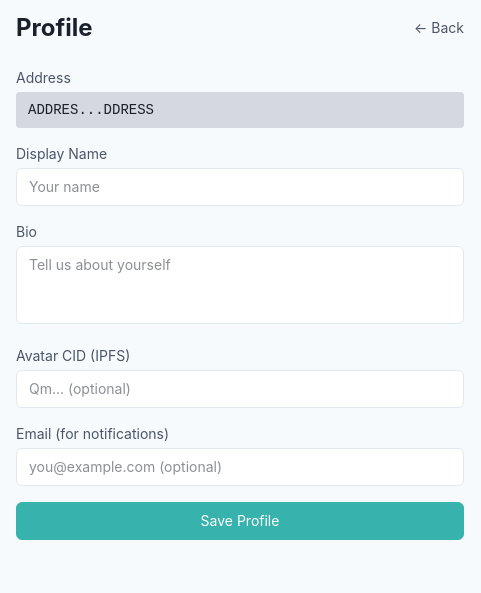
Profile › shows an error when saving fails
Step 1. Click the button "Save Profile" → click(240, 521), box [16,502,464,540]
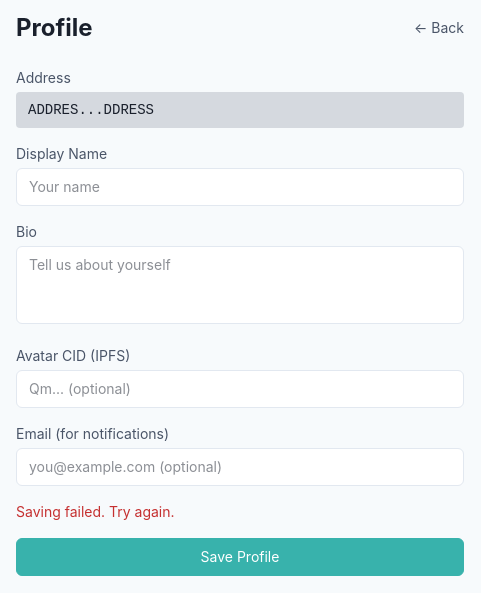
Result: the text "Saving failed. Try again." is shown at [16,503,174,520]
